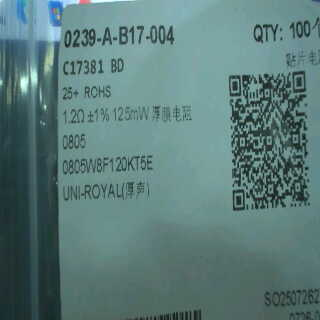1.2R: (61, 106, 86, 155)
